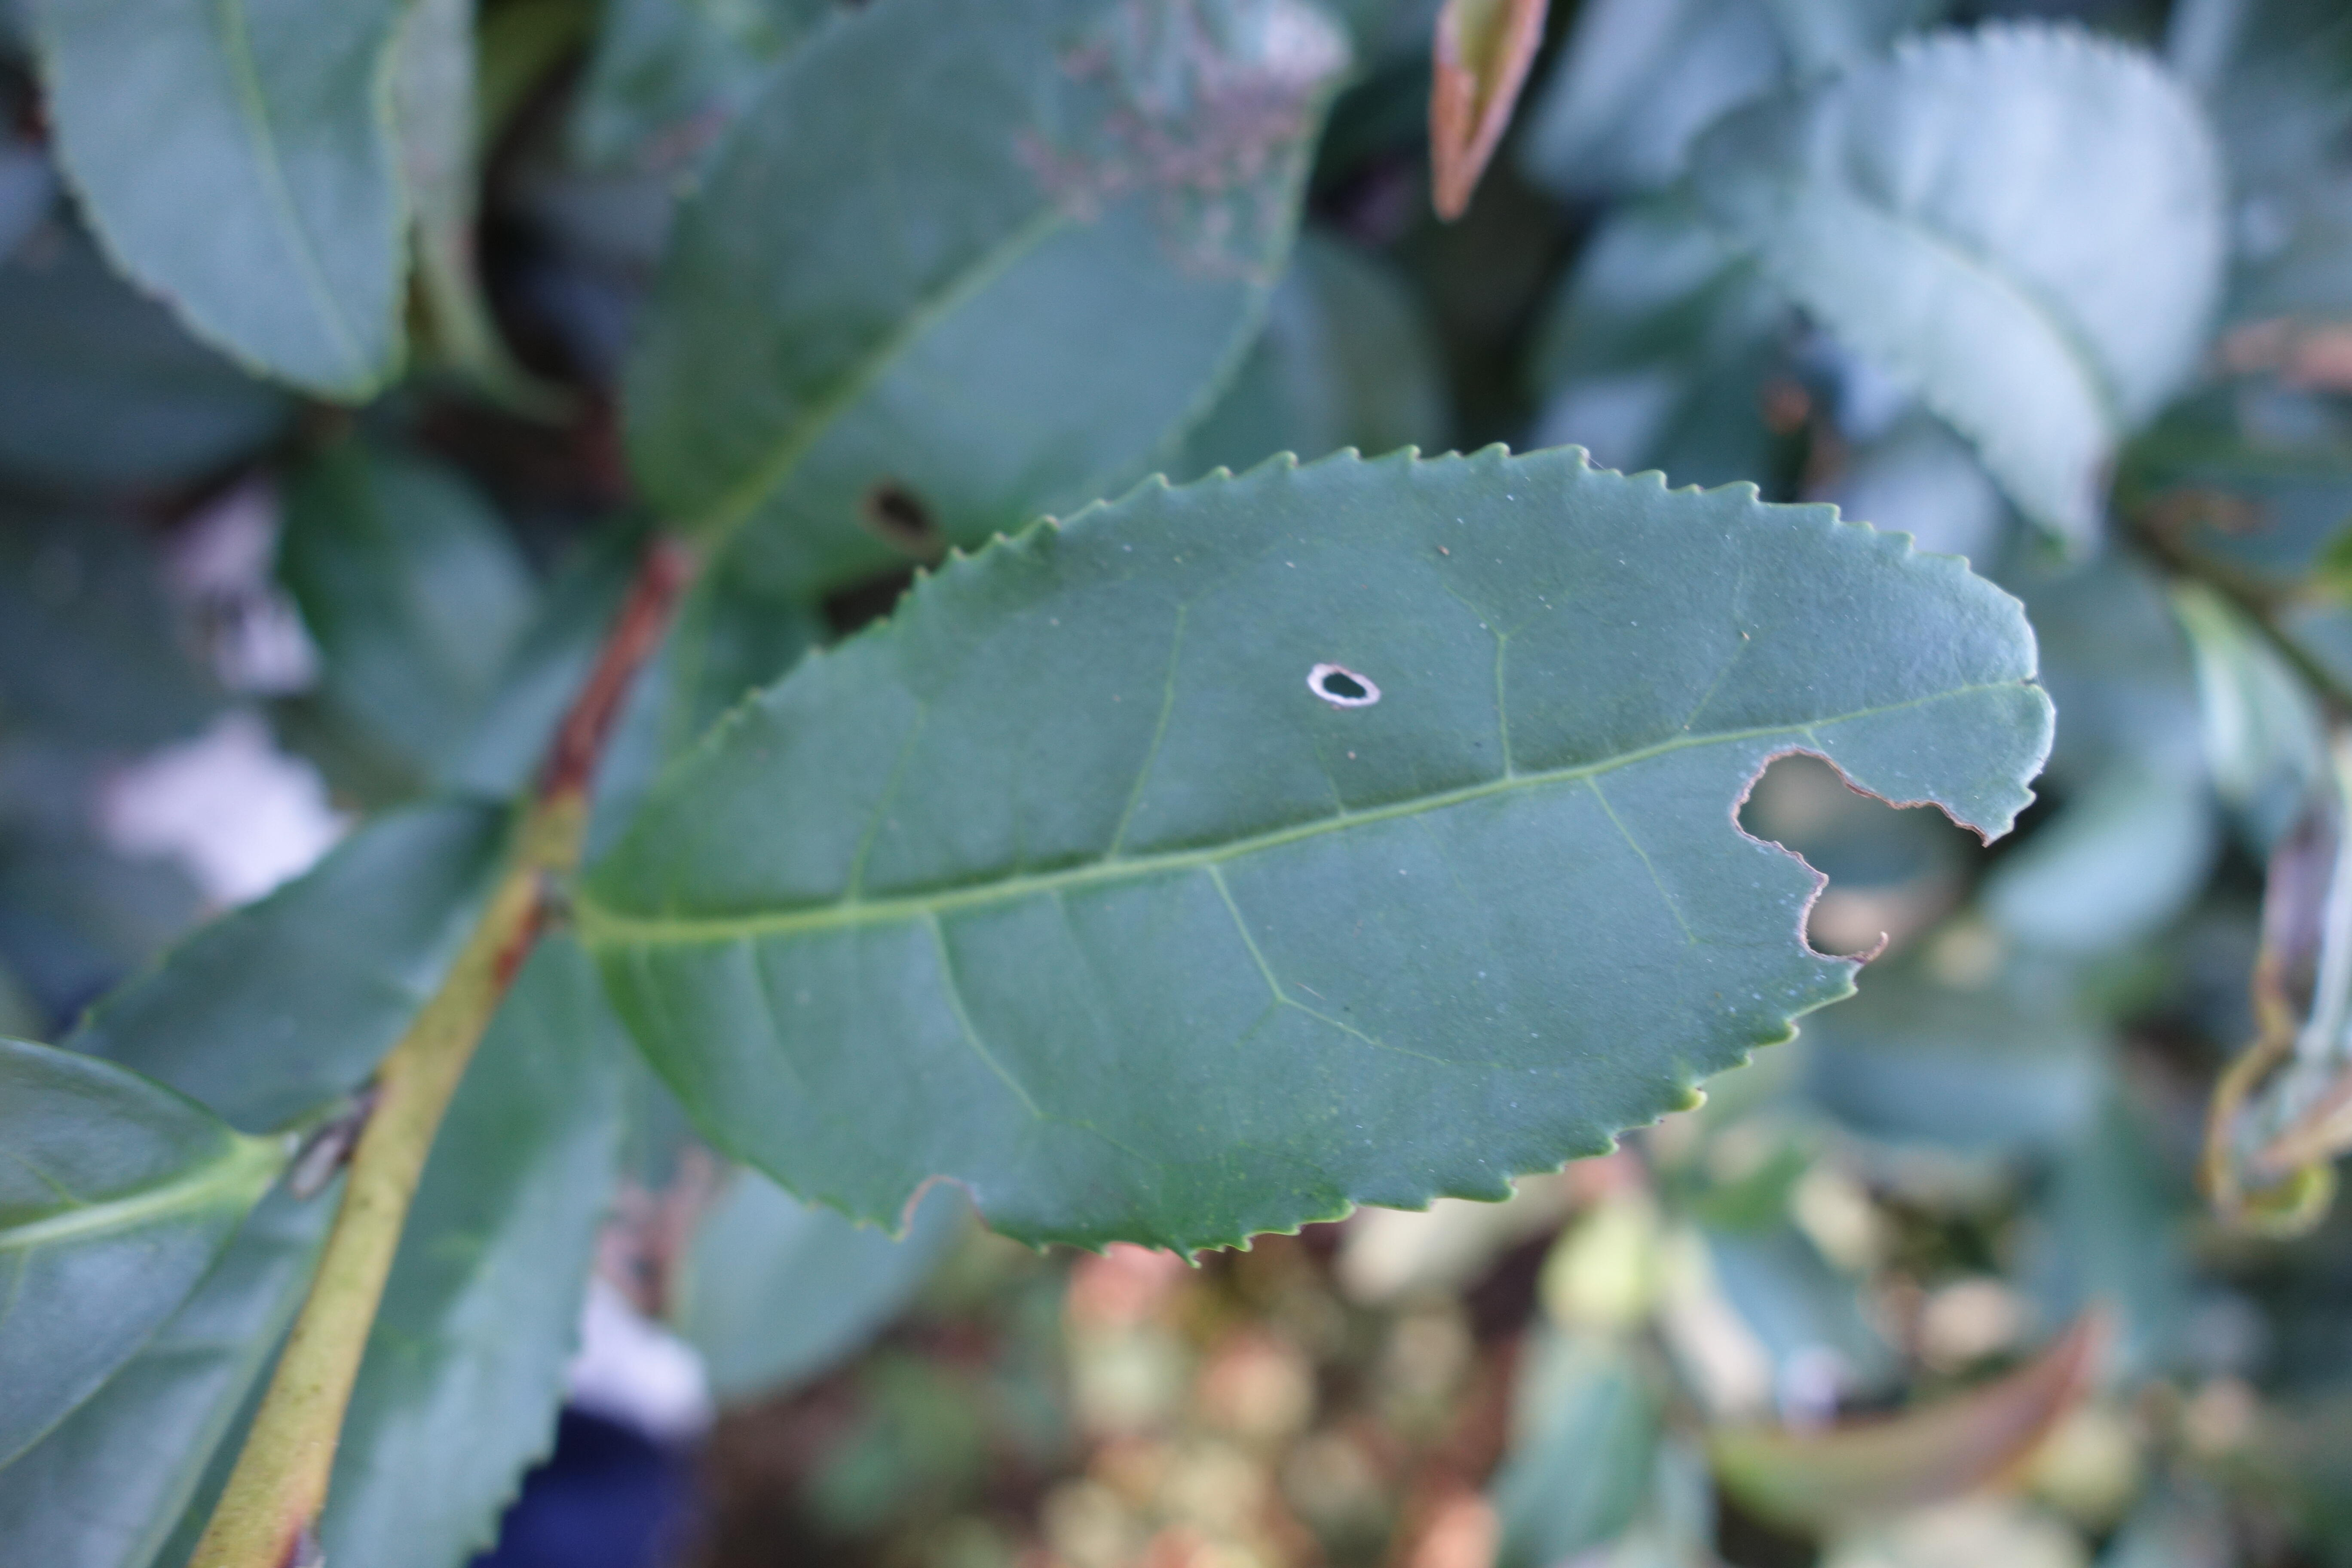chihuo_high: (572, 443, 2054, 1267)
